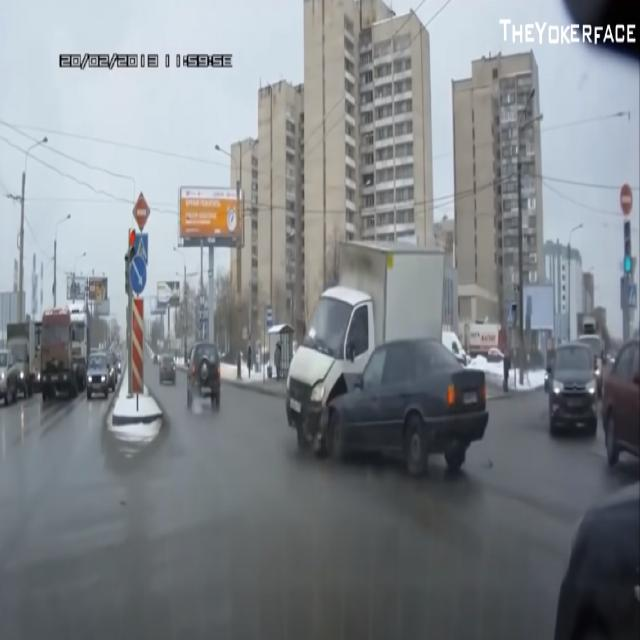accident: (290, 229, 488, 489)
